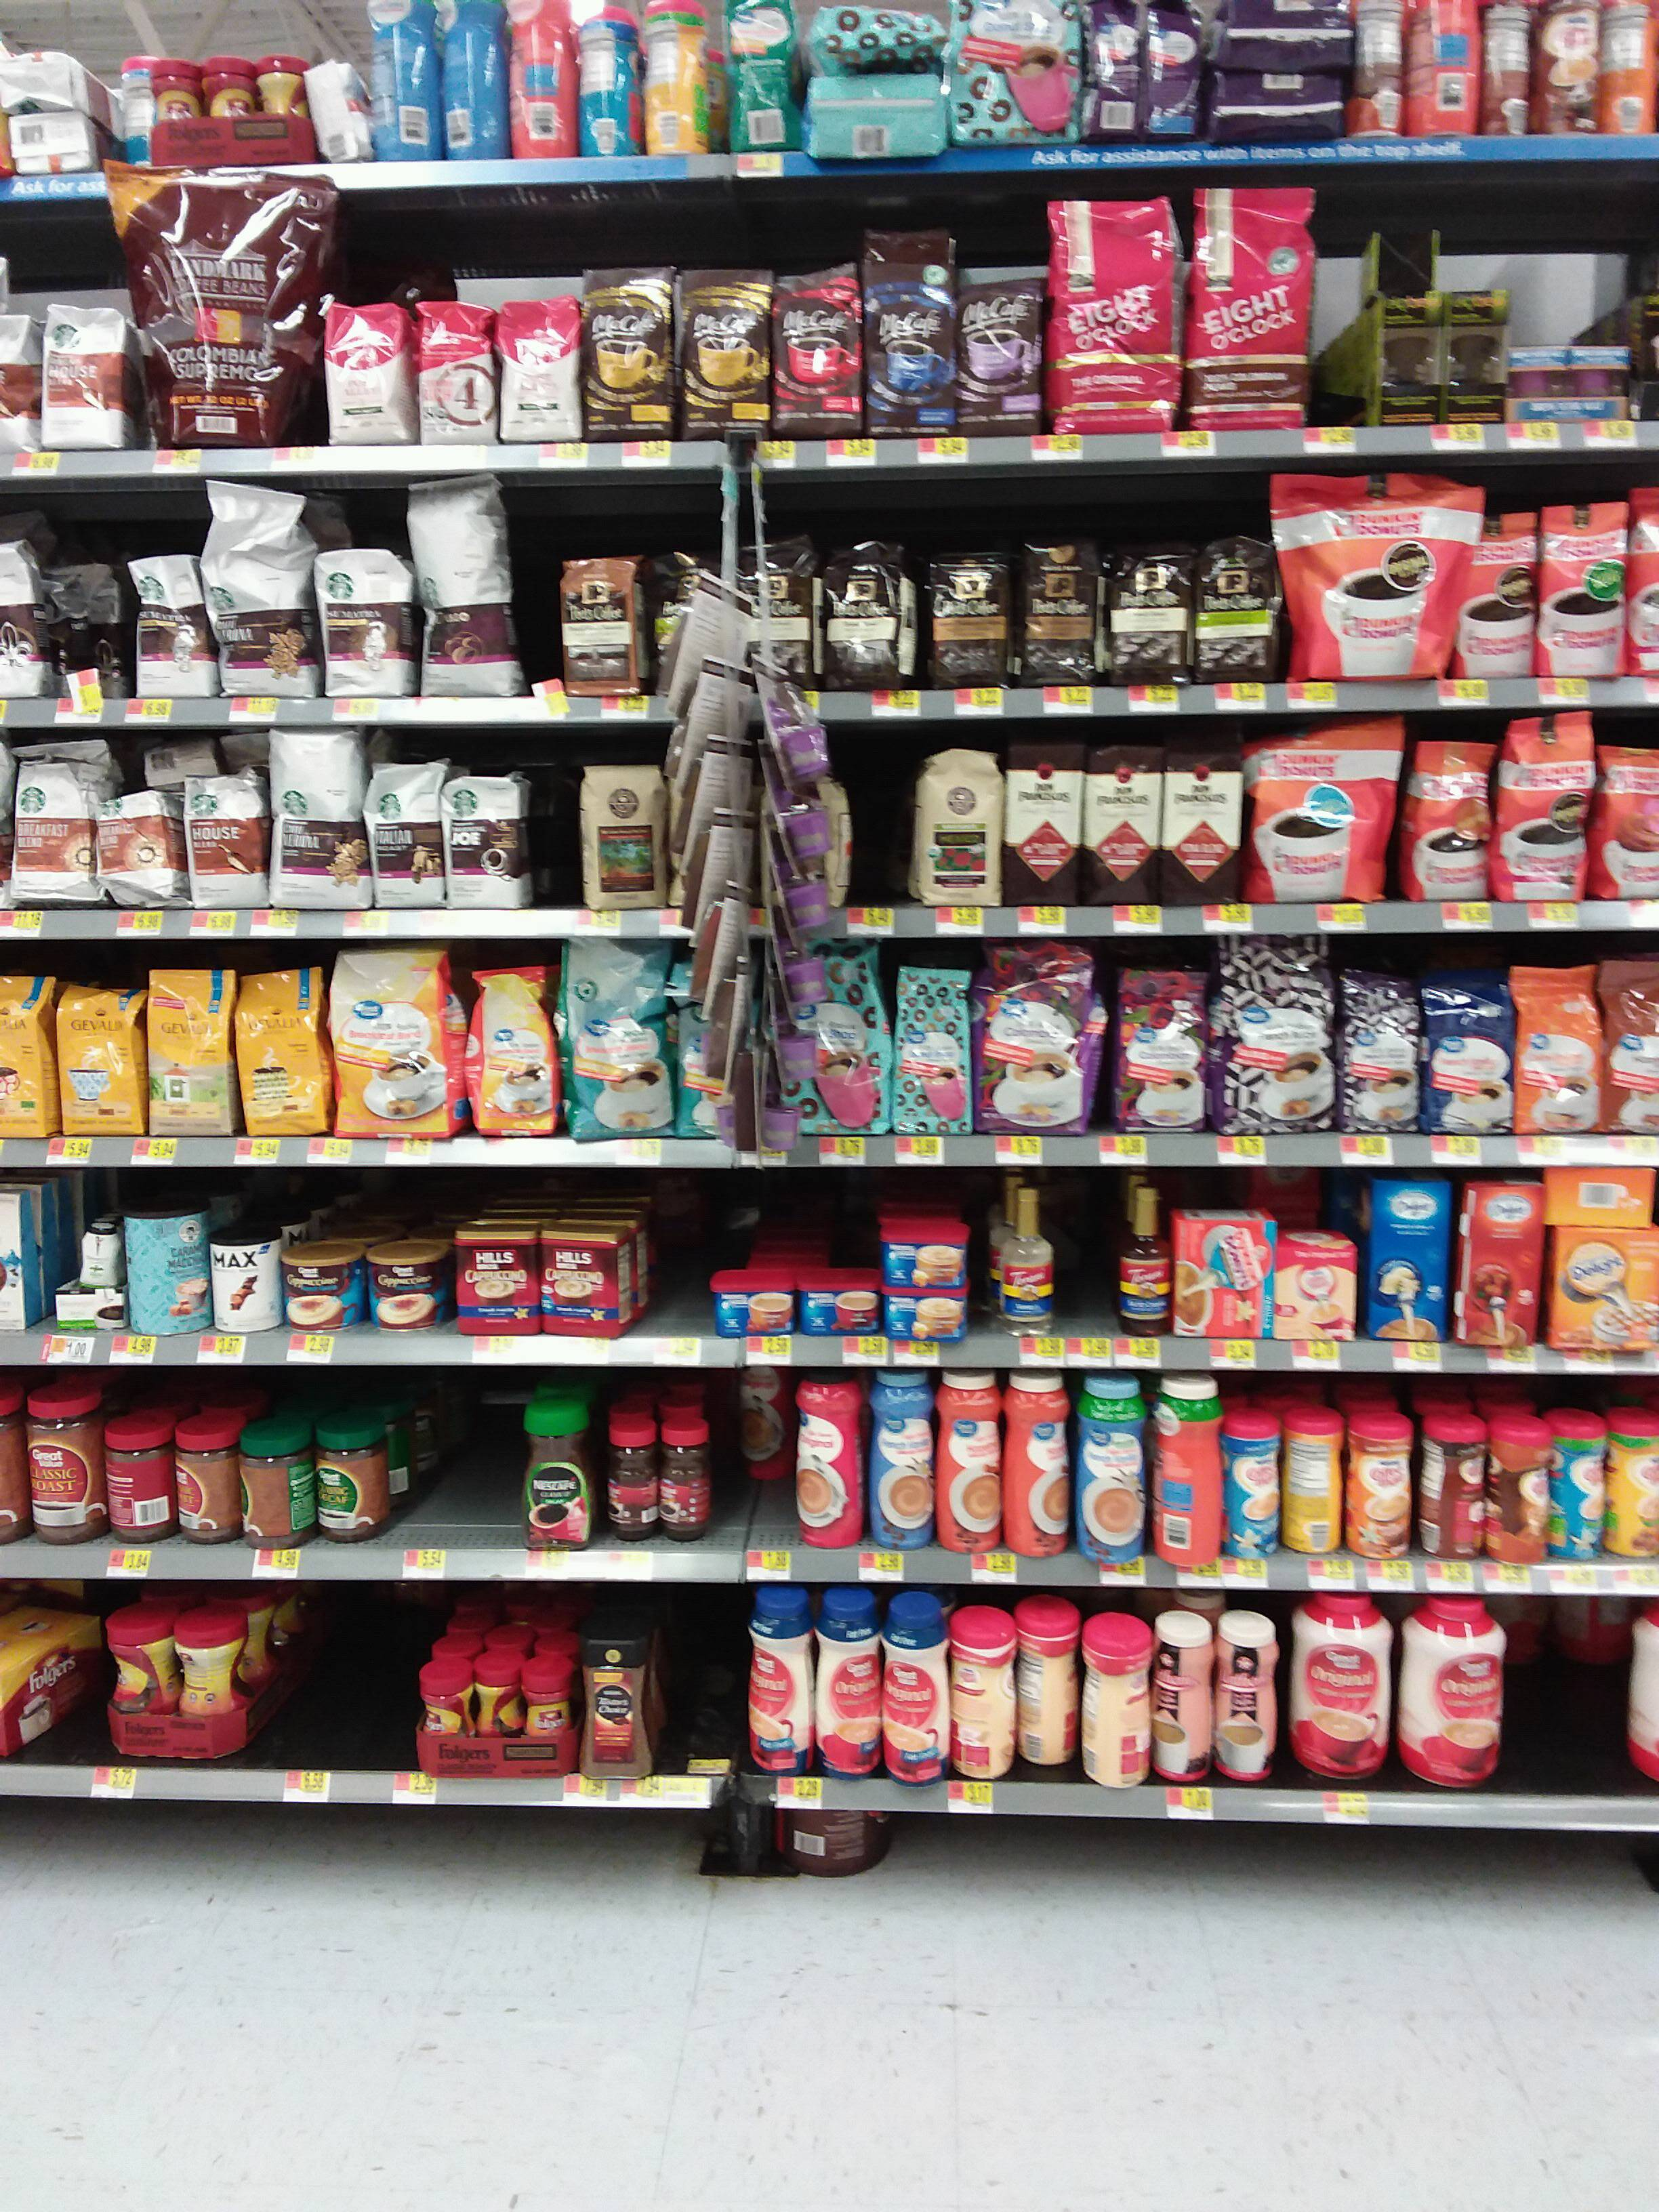Misplacement: (720, 1372, 798, 1547)
